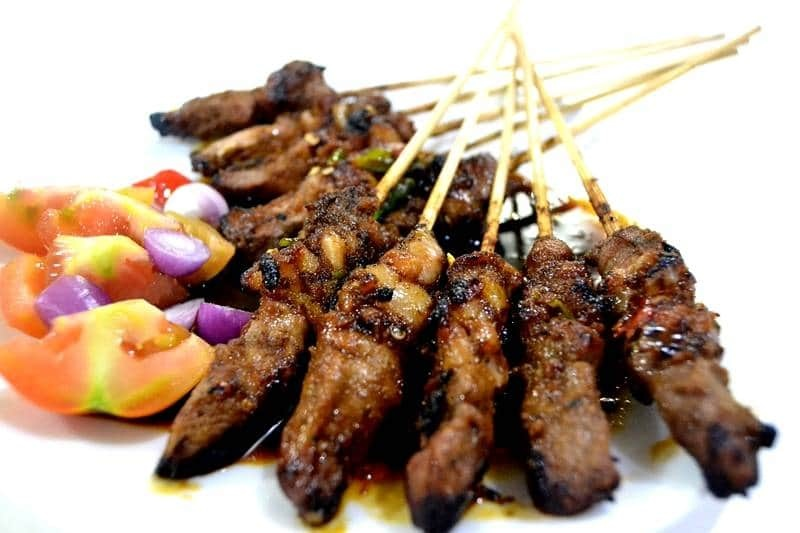sate: (267, 3, 762, 532)
